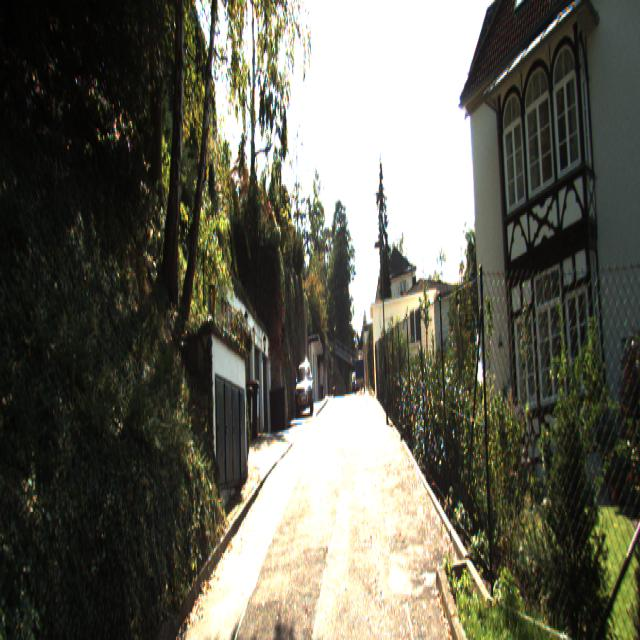Car: (297, 360, 313, 417)
